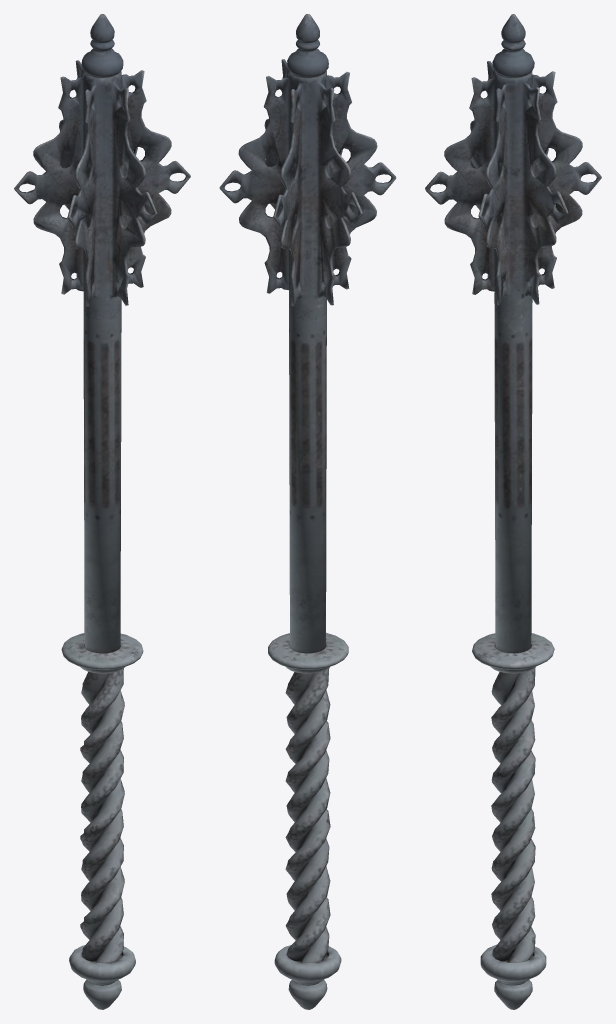
Rendered from ornate_medieval_mace.glb.
3 renders of one model, left to right at view 1: azimuth 30°, elevation 25°; view 2: azimuth 150°, elevation 25°; view 3: azimuth 270°, elevation 25°, orthographic.
Parts seen in each view (by area): view 1: ornate_medieval_mace; view 2: ornate_medieval_mace; view 3: ornate_medieval_mace.
Boxes of the visible parts, x1=… form: ornate_medieval_mace: x1=14, y1=14, x2=190, y2=1009; ornate_medieval_mace: x1=219, y1=14, x2=396, y2=1009; ornate_medieval_mace: x1=425, y1=14, x2=601, y2=1009.
Bounding box in the file's own units: 0.0949 × 0.6299 × 0.1015.
1 material, 1 textured.
